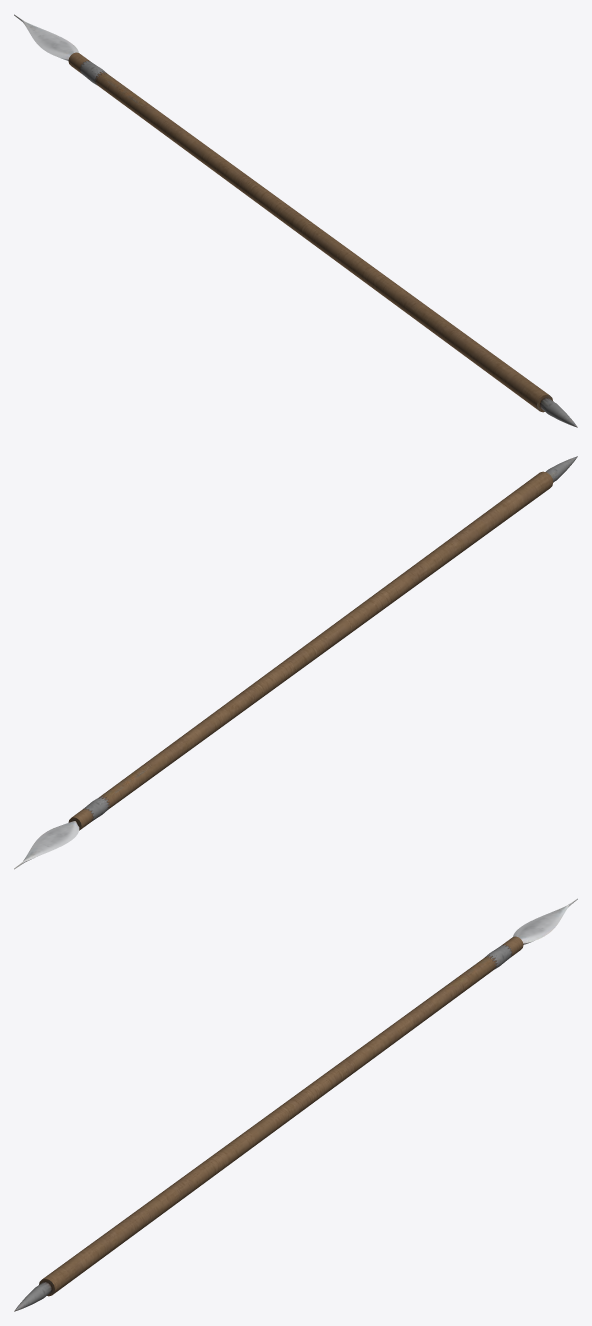
File: lankia.glb
The picture shows the model from 3 angles, top to bottom: view 1: azimuth 30°, elevation 25°; view 2: azimuth 150°, elevation 25°; view 3: azimuth 330°, elevation 25°; orthographic projection.
Visible parts, largest first — view 1: lankia; view 2: lankia; view 3: lankia.
Boxes of the visible parts, <box> form: lankia: <box>14,14,577,427</box>; lankia: <box>14,456,577,869</box>; lankia: <box>14,898,577,1311</box>.
Size of the model in its own units: 0.0524 by 0.0302 by 1.85.
1 material, 1 textured.
